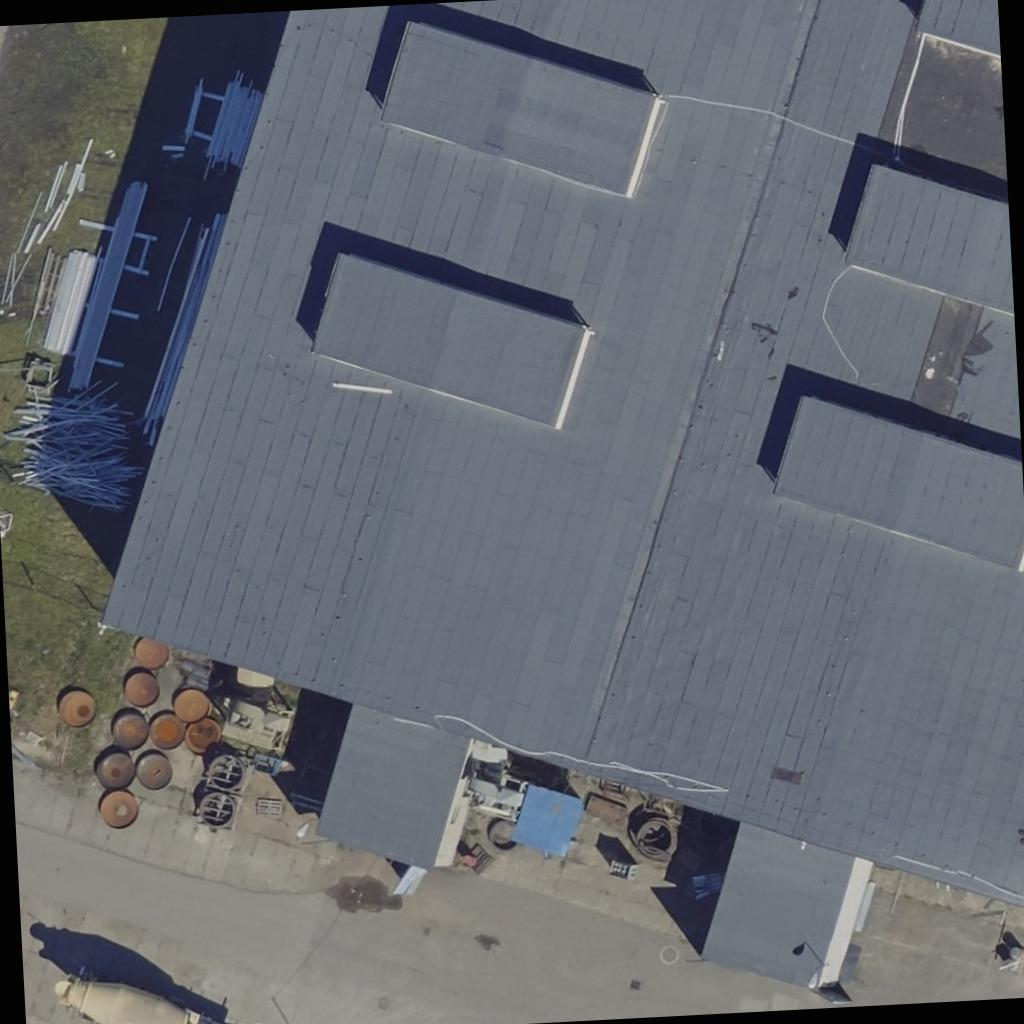betoniarka: (55, 970, 201, 1024)
